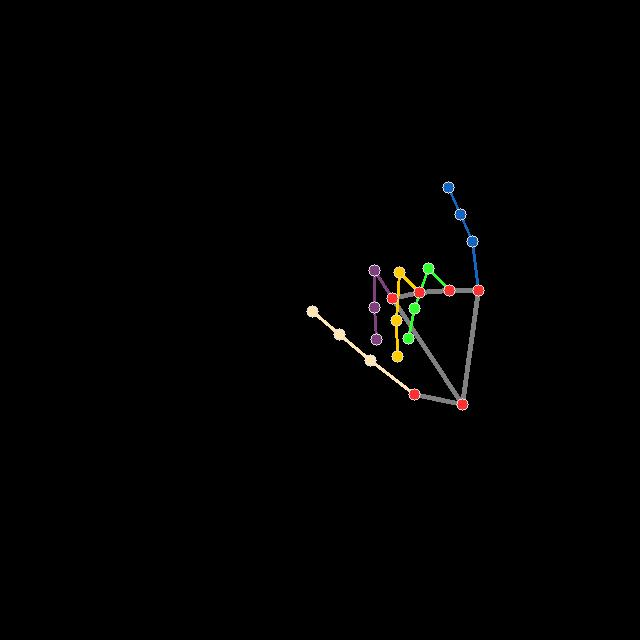skr: (304, 179, 486, 412)
